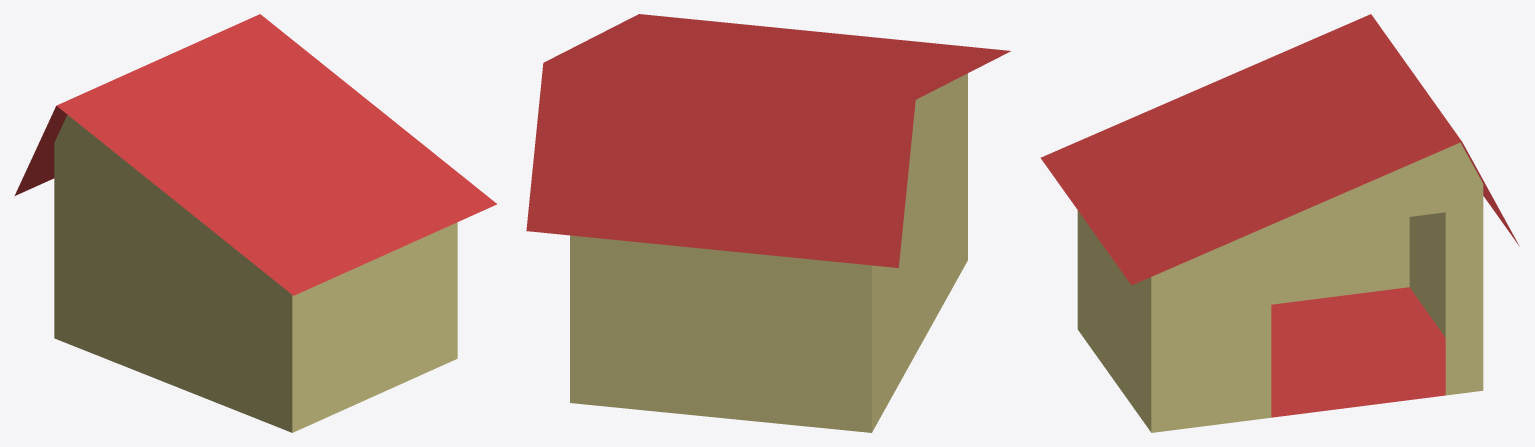
3 views of the same model, side by side, from view 1: azimuth 30°, elevation 25°; view 2: azimuth 150°, elevation 25°; view 3: azimuth 270°, elevation 25° (orthographic). The views are drawn at different scales.
Bounding box in the file's own units: 14.05 × 16.09 × 9.79.
